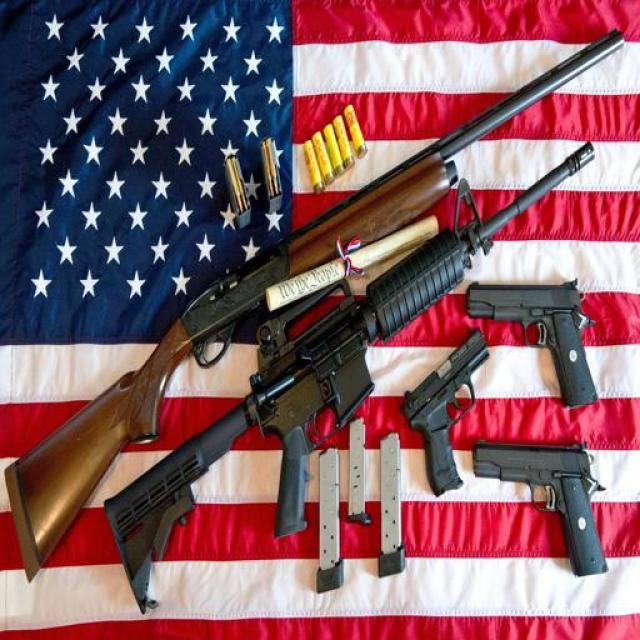pistol: (470, 437, 610, 575), (465, 279, 597, 408), (397, 325, 487, 495)
